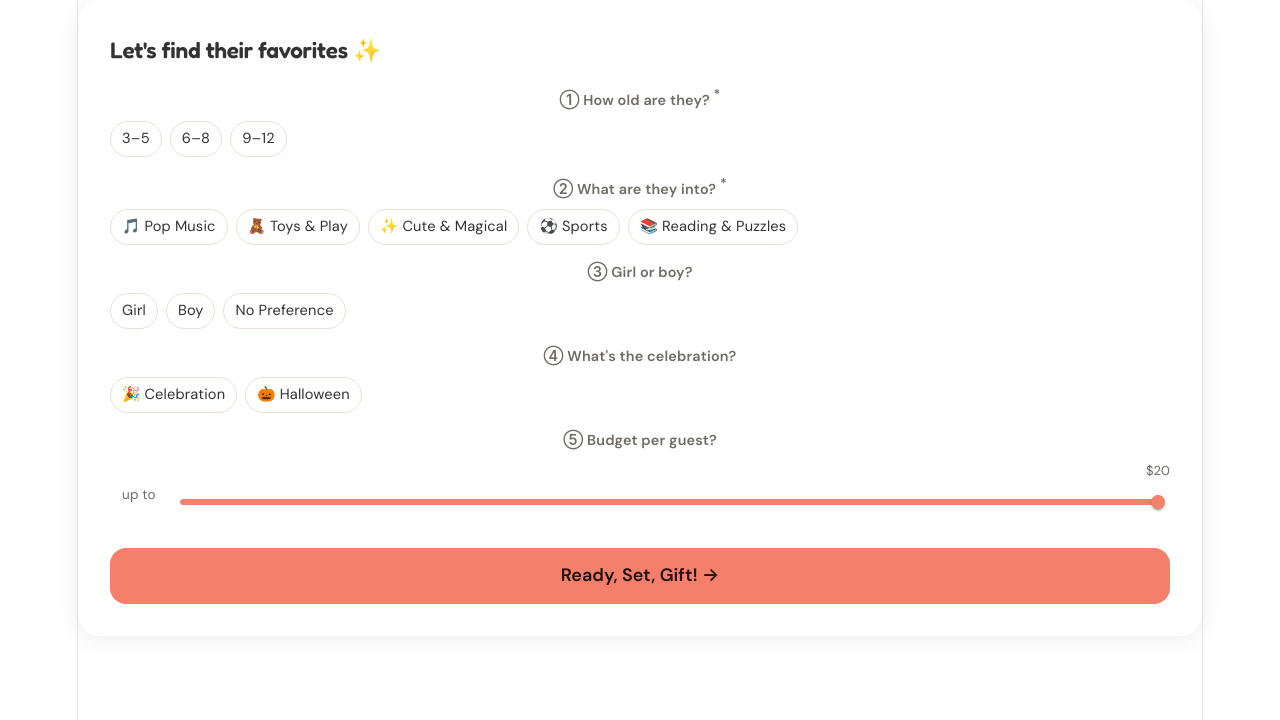
Test: GiftFinder — Clear all › clicking Clear all resets all selections and hides itself
The image size is (1280, 720).
Click the button "6–8": (196, 139) [170,121,222,157]
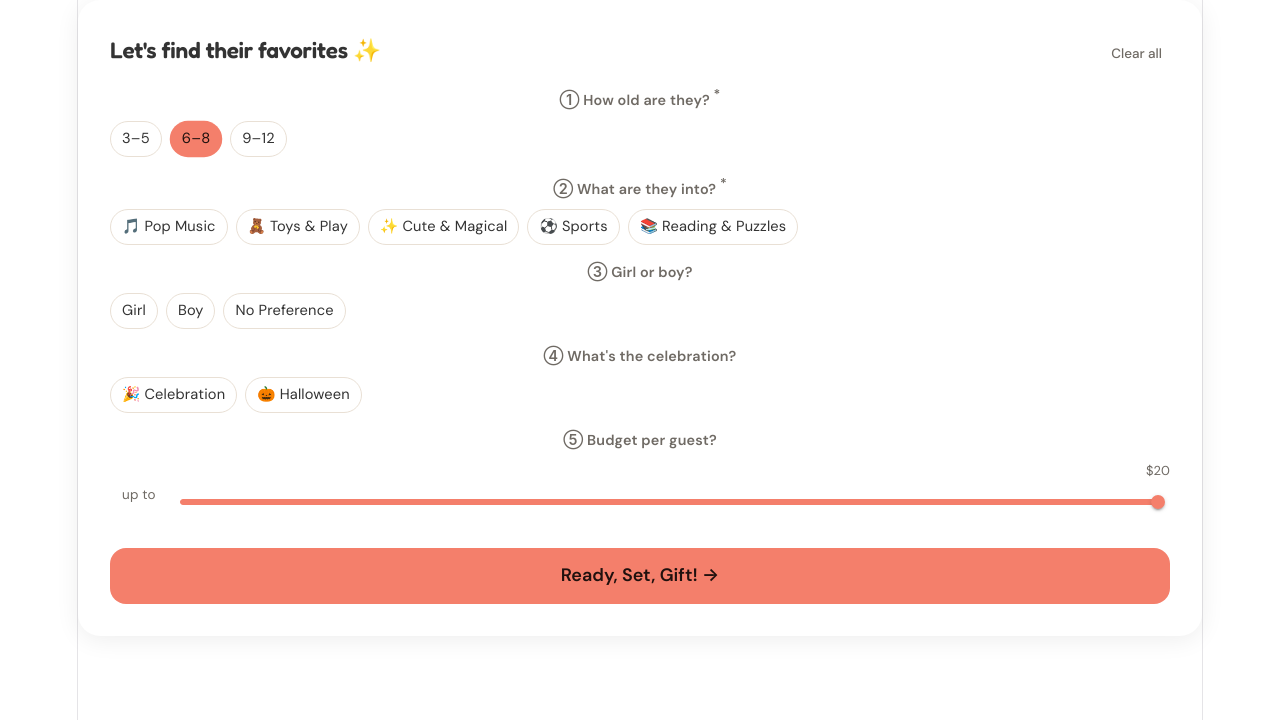
Click the button "🎵 Pop Music": (169, 227) [110,209,228,245]
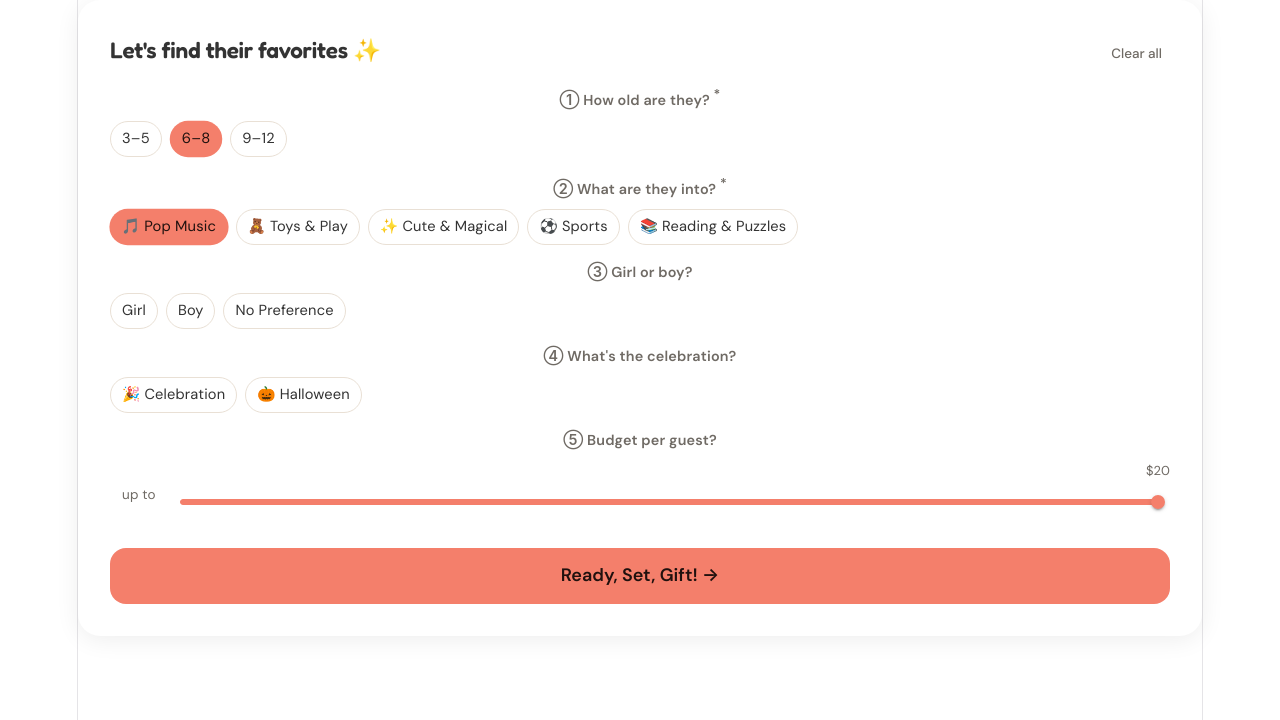
Click the button "Girl": (134, 311) [110,293,158,329]
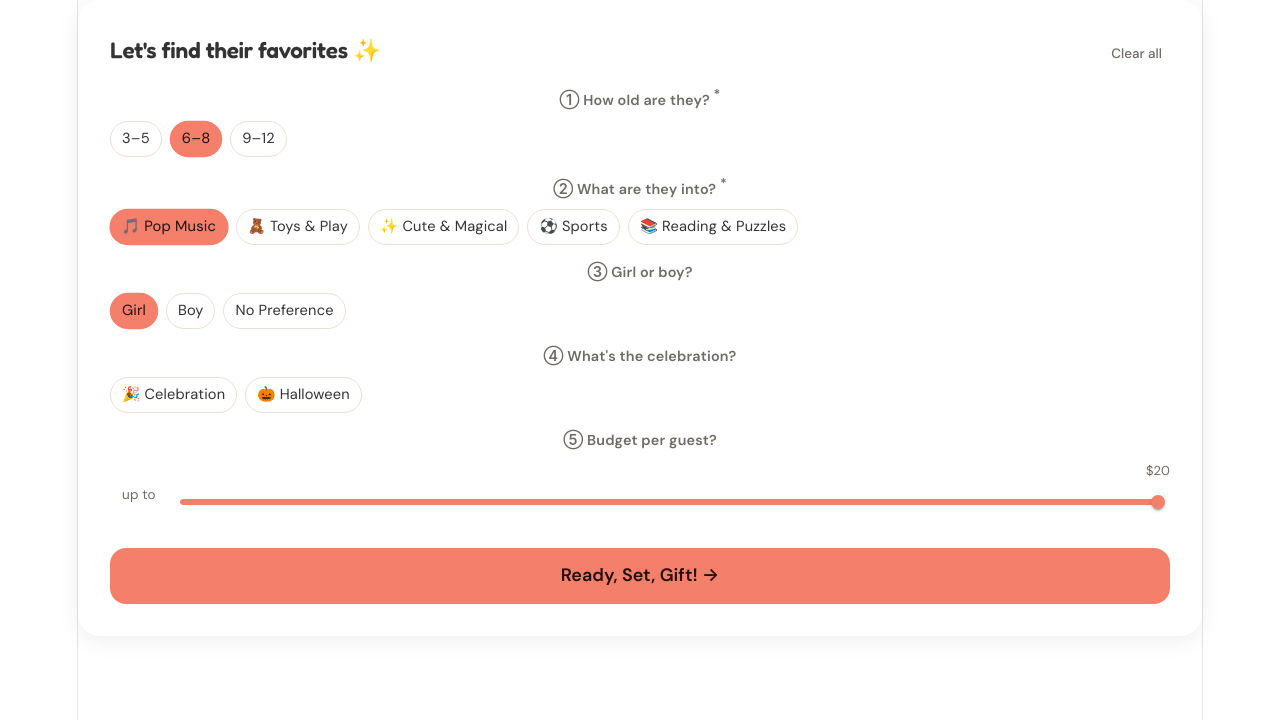
Click the button "Clear all": (1137, 54) [1103,43,1170,64]
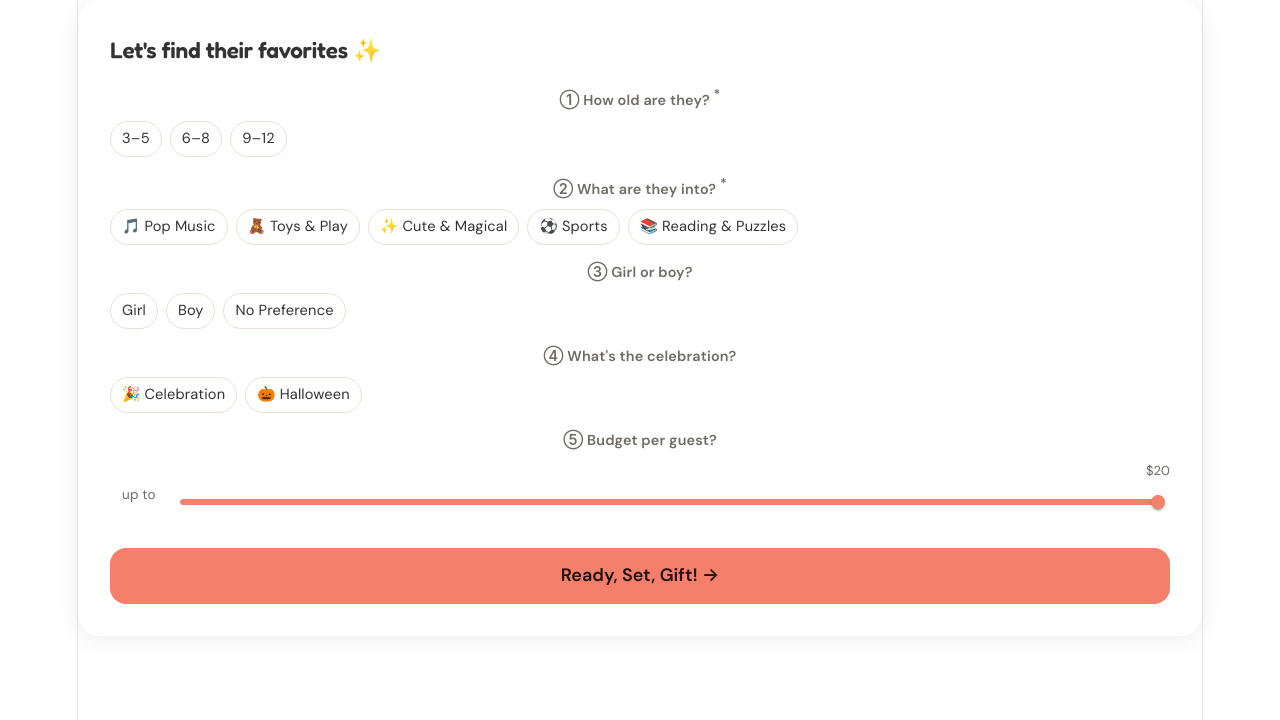
Result: the button "Clear all" is gone
